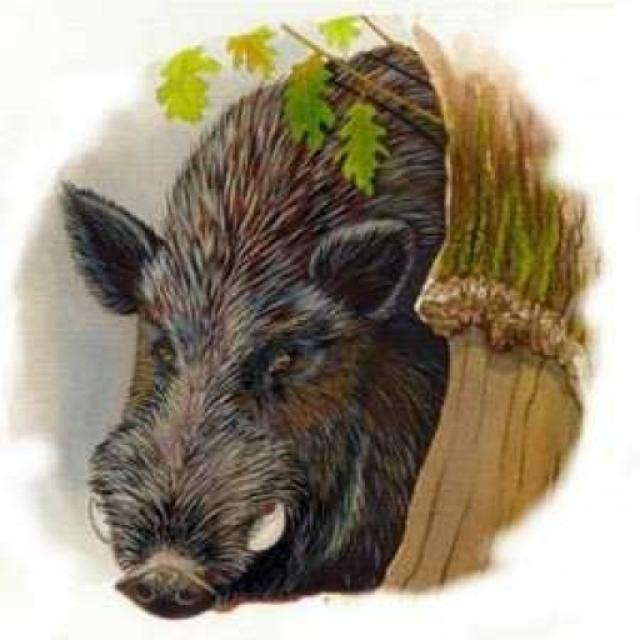pig: (48, 29, 456, 575)
